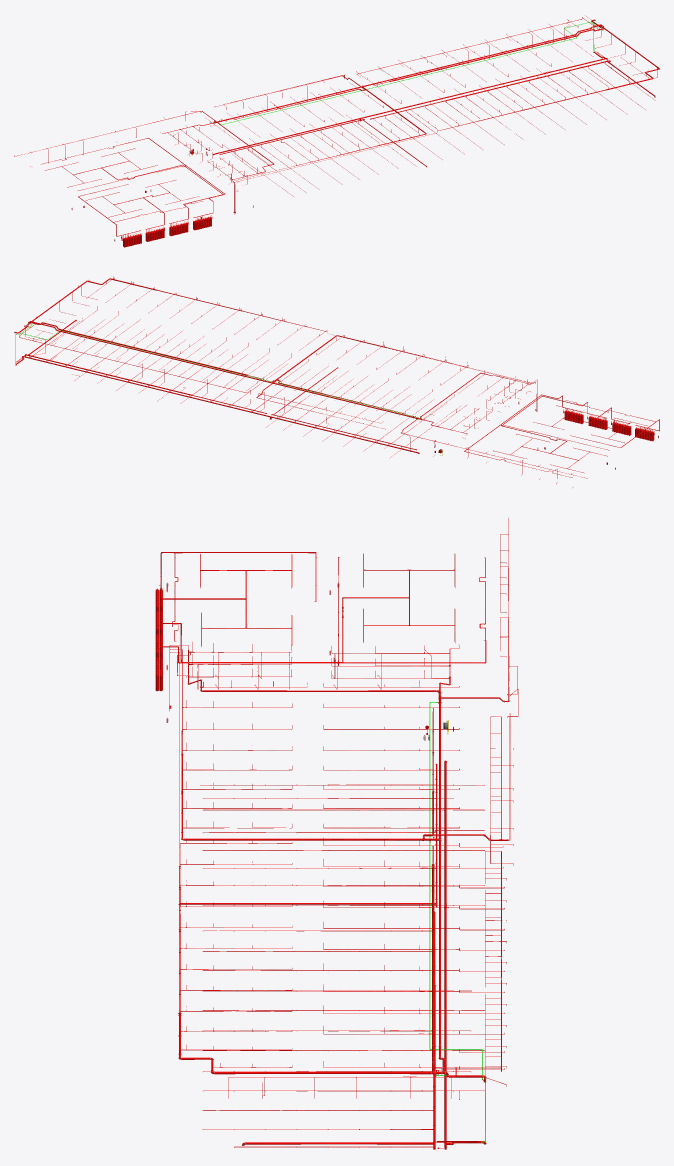
Rendered from detail-sprinklers-lite-4-3f.glb.
3 views of the same model, one above another, from view 1: azimuth 30°, elevation 25°; view 2: azimuth 150°, elevation 25°; view 3: azimuth 270°, elevation 25° (orthographic). The views are drawn at different scales.
Bounding box in the file's own units: 102 × 7.09 × 27.81.
